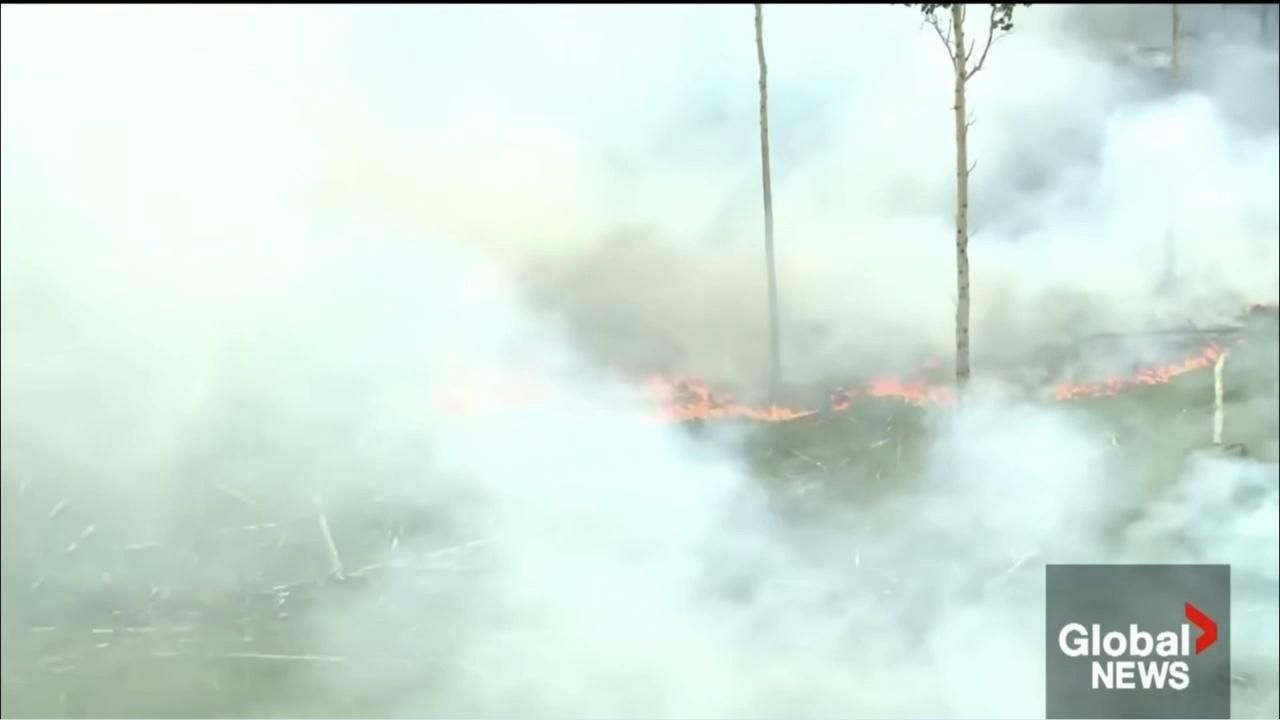fire: (625, 365, 819, 426), (1053, 339, 1231, 404), (865, 375, 961, 403), (830, 382, 859, 415), (921, 349, 952, 370)
smoke: (2, 4, 1278, 719)
